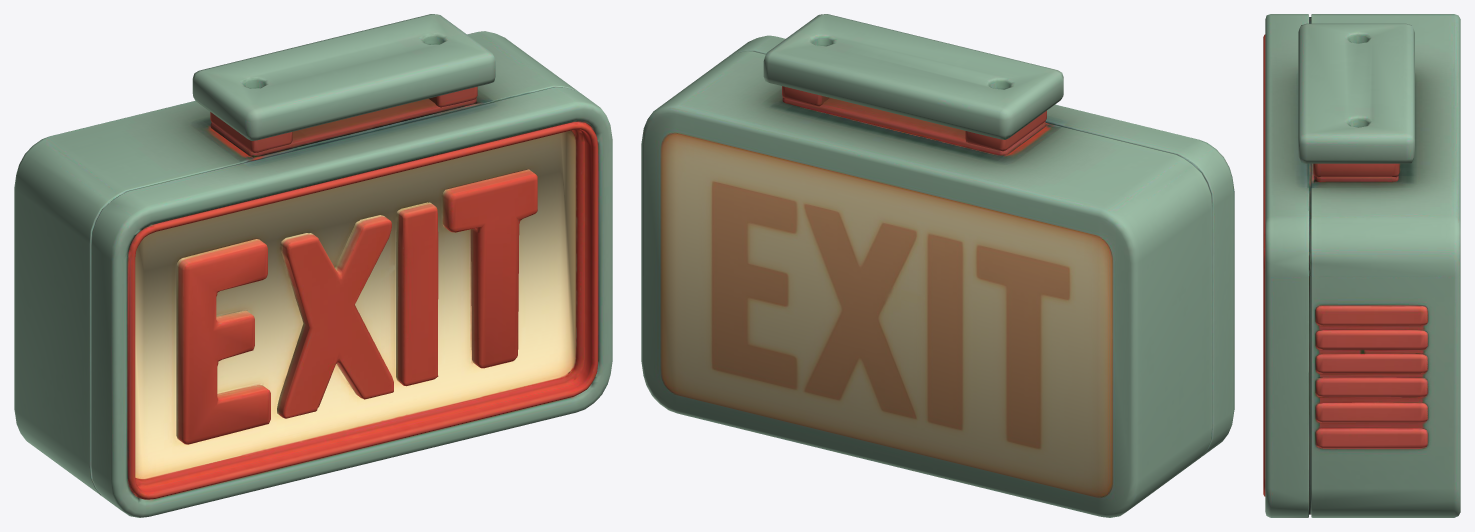
File: exit-sign.glb
3 renders of one model, left to right at view 1: azimuth 30°, elevation 25°; view 2: azimuth 150°, elevation 25°; view 3: azimuth 270°, elevation 25°, orthographic. The views are drawn at different scales.
Parts seen in each view (by area): view 1: EXIT Sign; view 2: EXIT Sign; view 3: EXIT Sign.
Boxes of the visible parts, left/top/right/bottom form: EXIT Sign: left=14, top=14, right=612, bottom=517; EXIT Sign: left=641, top=14, right=1234, bottom=517; EXIT Sign: left=1263, top=14, right=1460, bottom=517.
Bounding box in the file's own units: 0.998 × 0.6895 × 0.3535.
Materials: 1 (1 with a texture image).
